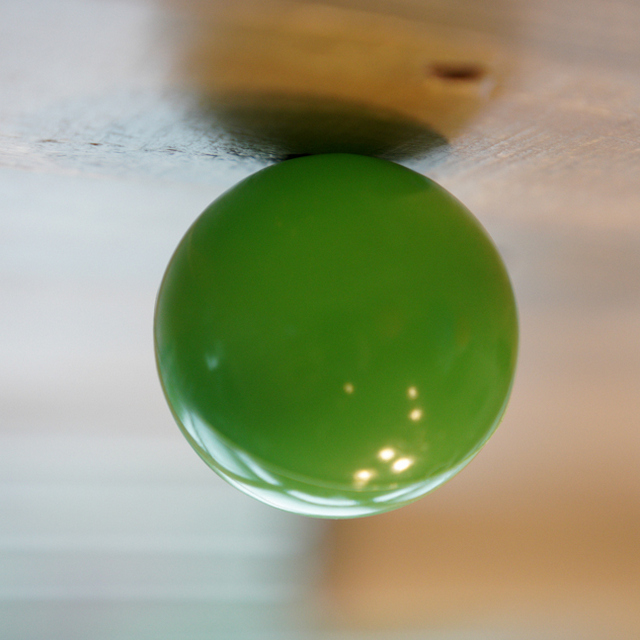Ball: (144, 154, 519, 518)
